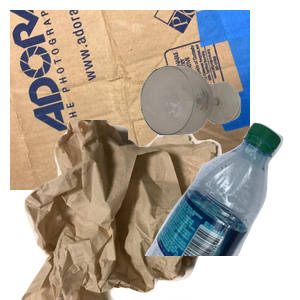cardboard: (10, 10, 250, 190)
glass: (138, 63, 300, 191)
plastic: (142, 120, 300, 300)
trash: (19, 120, 249, 300)
